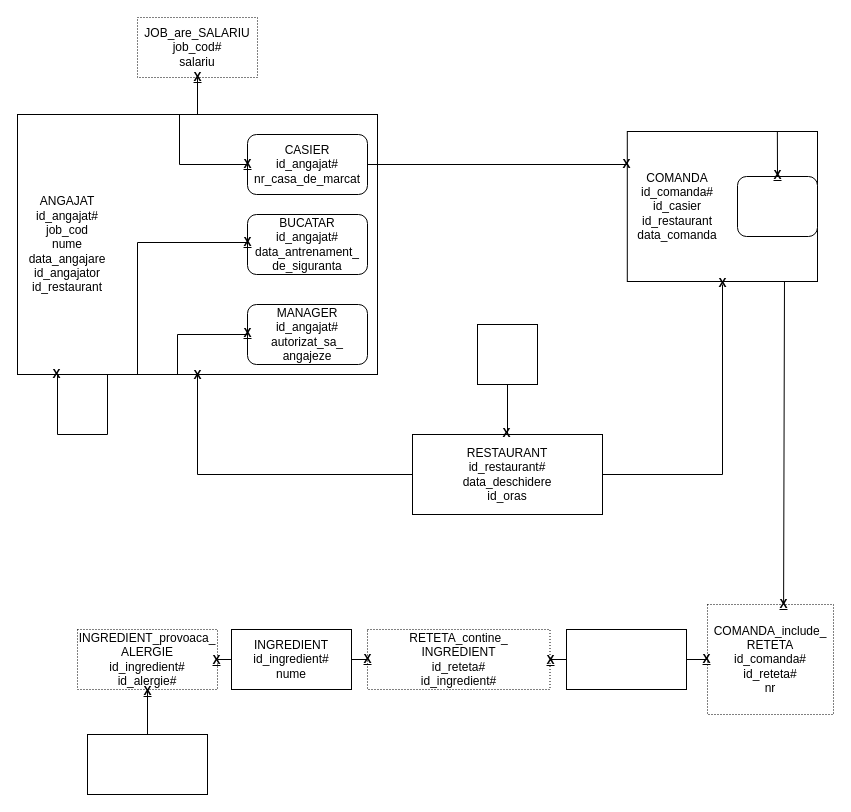
The diagram is 851 pixels wide and 812 high, and some of its shapes have lost their labels. The shapes that lost their labels are listed below. From the top down, each one's centre as x and y in pixels, then its label:
point (777, 206): LIVRARE id_comanda# adresa cost
point (507, 354): ORAS id_oras# nume
point (626, 659): RETETA id_reteta# nume pret
point (147, 764): ALERGIE id_alergie# nume
